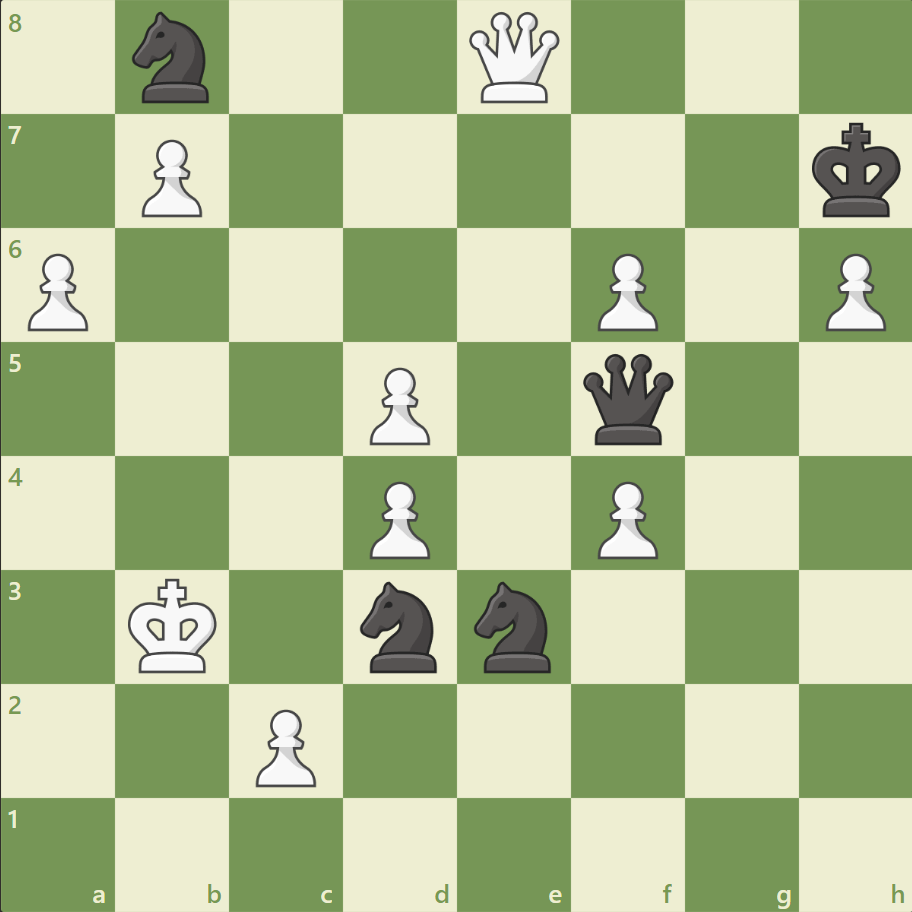K: (124, 571, 224, 679)
P: (133, 132, 208, 223), (20, 246, 95, 337), (247, 700, 322, 791), (588, 246, 662, 337), (815, 246, 889, 337), (361, 359, 435, 450), (361, 473, 435, 564), (588, 473, 662, 564)
Q: (464, 9, 563, 108)
k: (806, 117, 906, 225)
n: (124, 7, 222, 110), (351, 575, 449, 677), (465, 575, 562, 677)
q: (578, 349, 677, 449)
